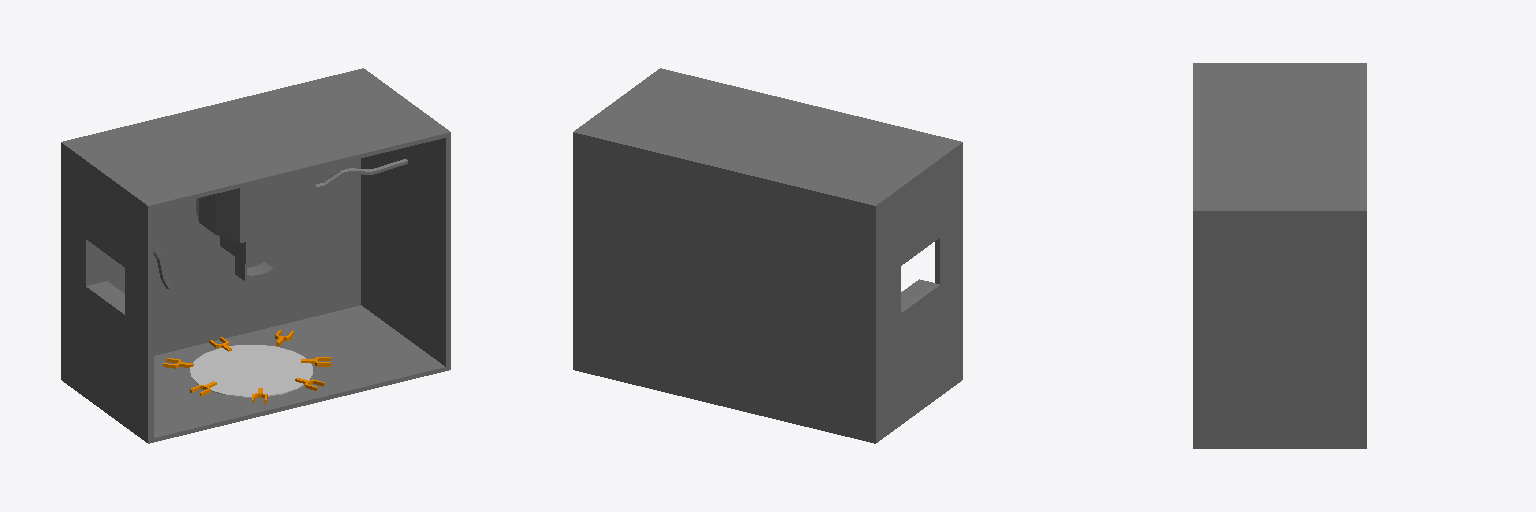
Rendered from ritual_chamber.obj.
3 renders of one model, left to right at view 1: azimuth 30°, elevation 25°; view 2: azimuth 150°, elevation 25°; view 3: azimuth 270°, elevation 25°, orthographic.
Parts seen in each view (by area): view 1: wall, thing, yin_yang, right_wire1; view 2: wall; view 3: wall.
Boxes of the visible parts, x1=… form: wall: x1=61, y1=68, x2=450, y2=443; thing: x1=196, y1=170, x2=315, y2=280; yin_yang: x1=190, y1=345, x2=312, y2=397; right_wire1: x1=316, y1=159, x2=407, y2=189; wall: x1=573, y1=68, x2=962, y2=443; wall: x1=1193, y1=63, x2=1366, y2=448.
Size of the model in its own units: 8 by 6 by 4.